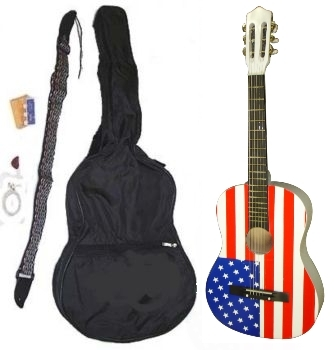guitar: (205, 7, 326, 340)
